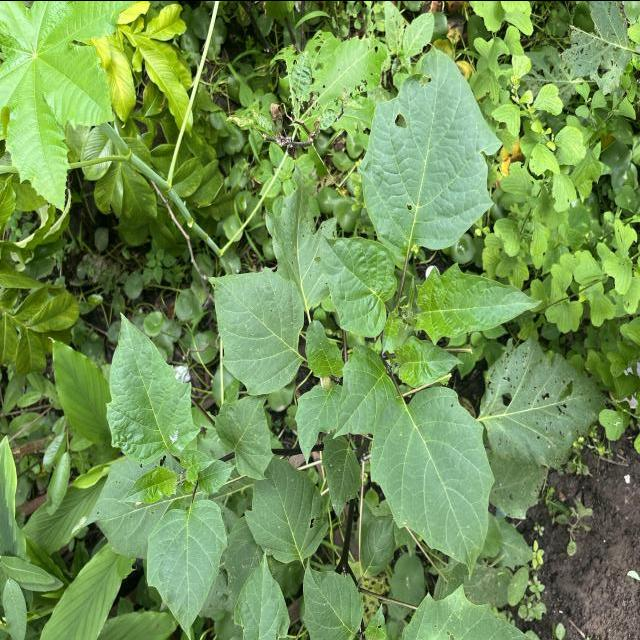Datura metal linn: (354, 40, 504, 258), (368, 383, 497, 581), (104, 308, 202, 465), (202, 264, 306, 397), (145, 496, 229, 640), (412, 258, 546, 348), (300, 554, 366, 640), (214, 394, 276, 481)
